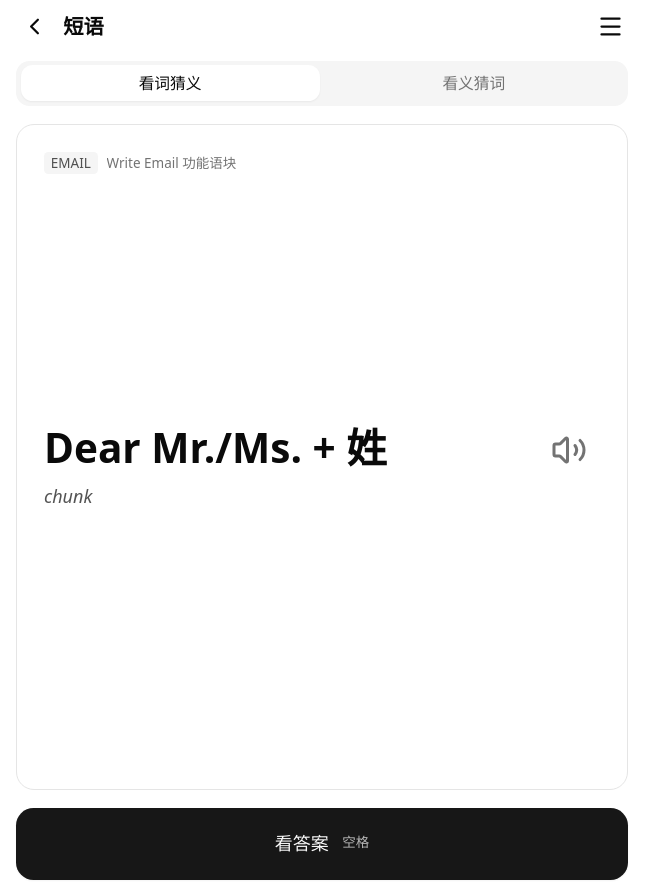
Scenario: 背诵页 › 点卡片本身也能翻面
The image size is (645, 893).
Click the text "Dear Mr./Ms. + 姓" at point(215, 448), box [44,420,387,475]
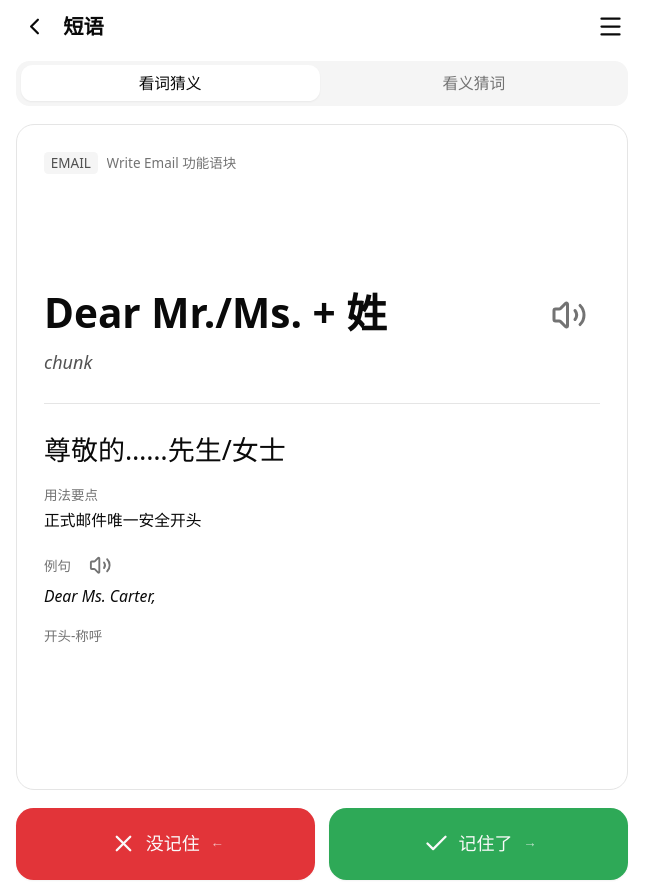
Result: the text "尊敬的……先生/女士" is shown at [44,431,286,468]
